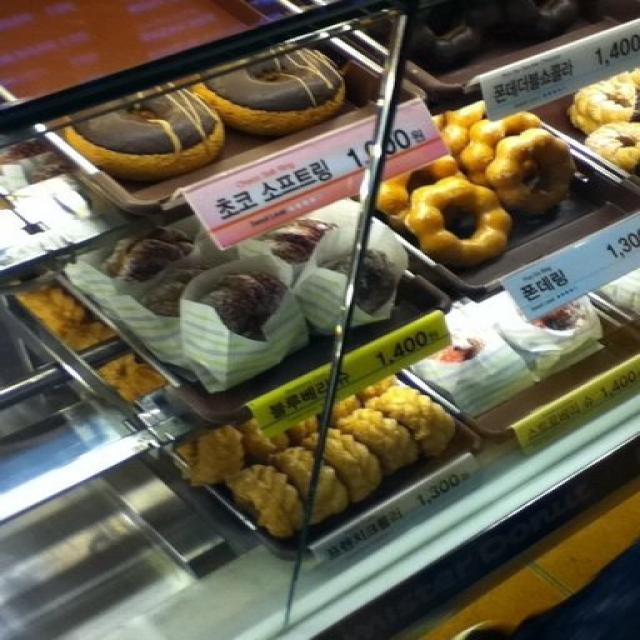Donuts: (15, 9, 640, 568)
